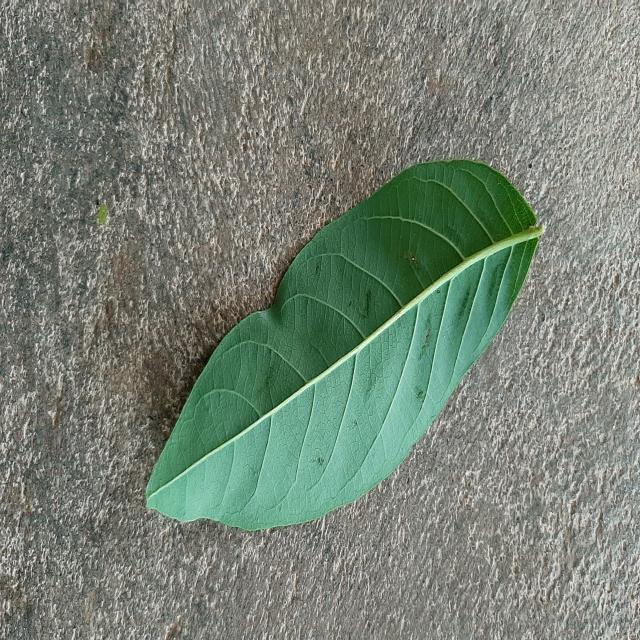seethaphala: (146, 160, 542, 528)
